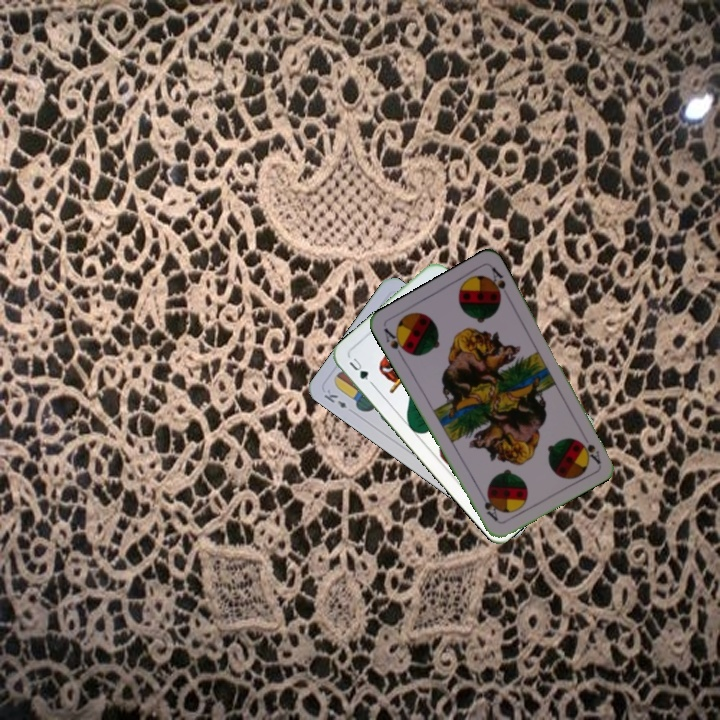EK: (320, 385, 350, 411)
GU: (345, 354, 375, 387)
SA: (380, 324, 411, 361), (577, 428, 603, 466)
